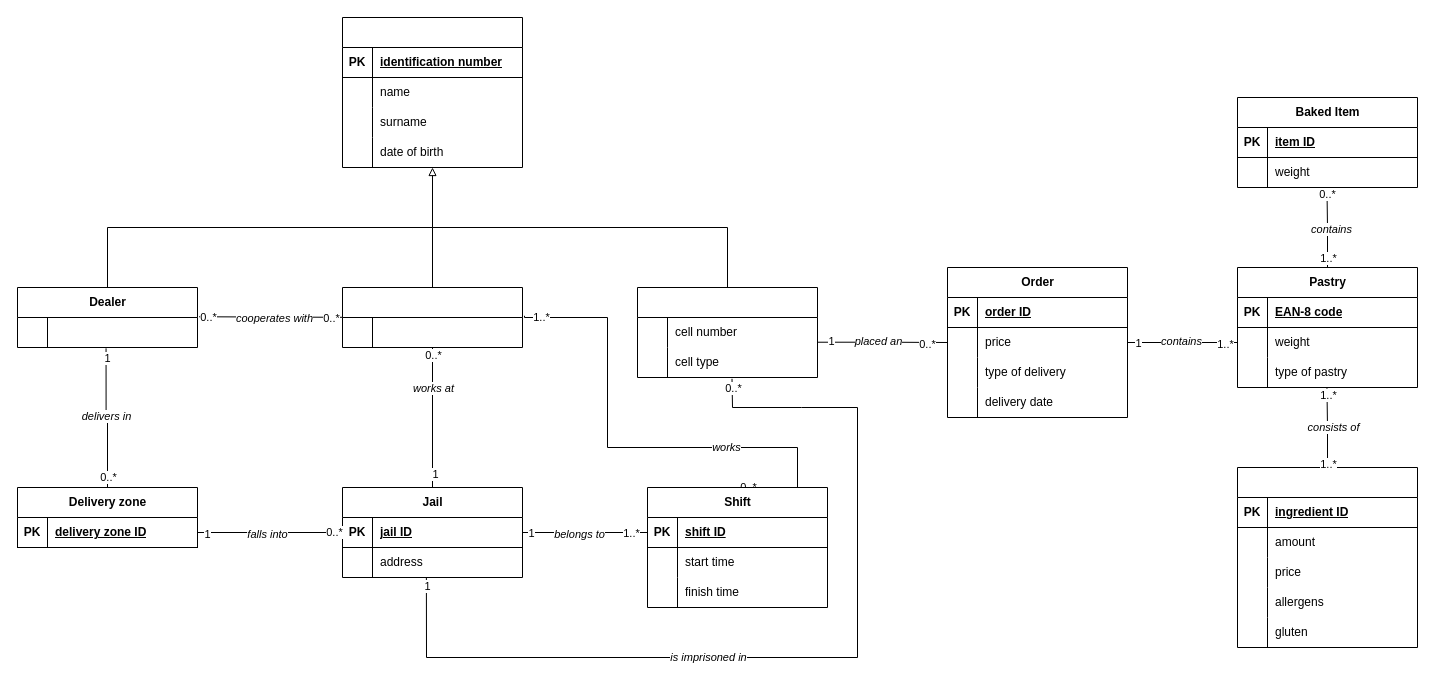
Image size: 1435x681. Some labels were removed from this diagram. Here are the shapes that lost their labels. From the top down, the box of each, then its label:
(342, 16, 522, 168): User
(342, 286, 522, 348): Jailer
(636, 286, 818, 378): Customer
(1236, 466, 1418, 648): Ingredients
